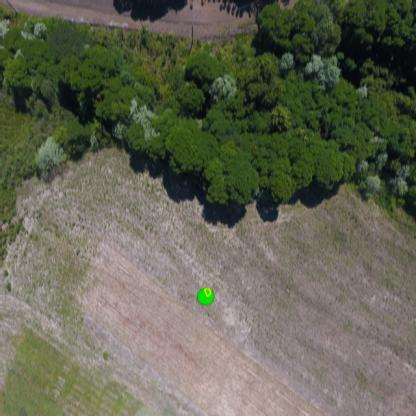D: (204, 285, 212, 298)
circle: (196, 286, 216, 306)
